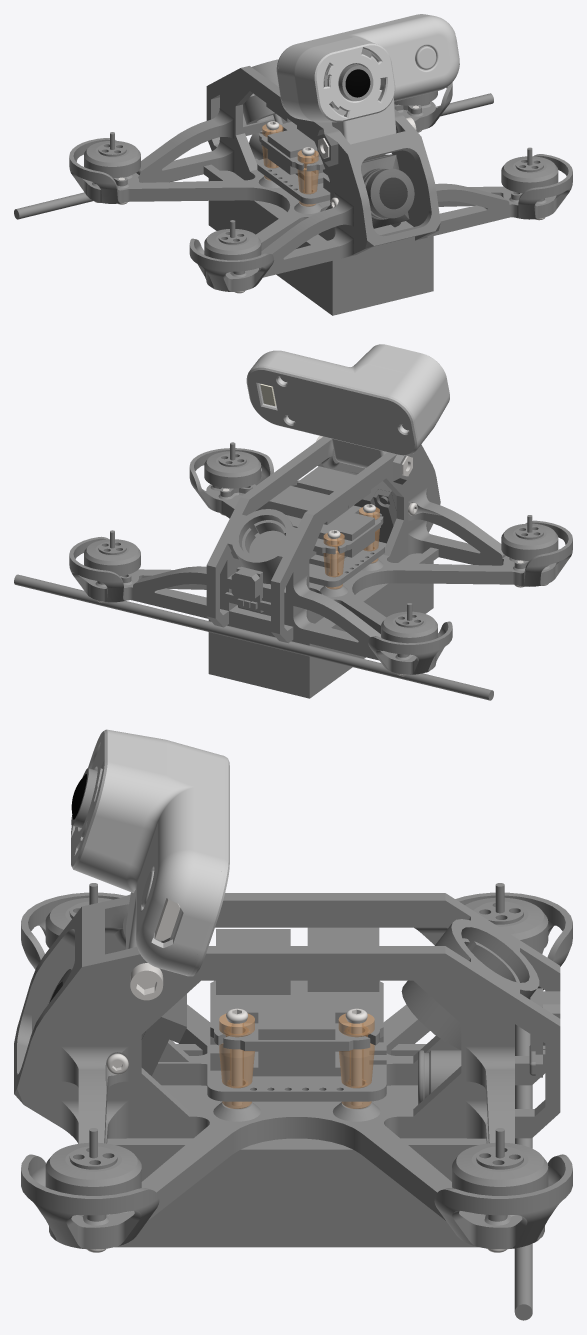
The model's file is my_drone.glb.
3 views of the same model, one above another, from view 1: azimuth 30°, elevation 25°; view 2: azimuth 150°, elevation 25°; view 3: azimuth 270°, elevation 25° (orthographic). The views are drawn at different scales.
Visible parts, largest first — view 1: drone frame-1, Runcam новый корпус-1, Батарея 4S-2, caddx ratel 2-1, JHEMCU F722 NOXE-1, RCINPower GTS V2 1202.5-6, RCINPower GTS V2 1202.5-5, RCINPower GTS V2 1202.5-1, JHEMCU EM40A-1, антенна rx-1, Runcam thumb naked-1, Проставки-1 (+1 smaller); view 2: drone frame-1, Runcam новый корпус-1, Батарея 4S-2, антенна rx-1, JHEMCU F722 NOXE-1, RCINPower GTS V2 1202.5-5, RCINPower GTS V2 1202.5-1, RCINPower GTS V2 1202.5-7, RCINPower GTS V2 1202.5-6, JHEMCU EM40A-1, hglrc beeper-1, TBS Crossfire Nano Rx-1 (+4 smaller); view 3: drone frame-1, Батарея 4S-2, Runcam новый корпус-1, JHEMCU F722 NOXE-1, JHEMCU EM40A-1, RCINPower GTS V2 1202.5-7, RCINPower GTS V2 1202.5-5, RCINPower GTS V2 1202.5-6, RUSH TINY TANK-1, антенна rx-1, TBS Crossfire Nano Rx-1, Проставки-3 (+10 smaller).
Part boxes in pixels (x1,y1,x2,y2): drone frame-1: (69,59,572,291); Runcam новый корпус-1: (276,14,459,144); Батарея 4S-2: (208,158,433,315); caddx ratel 2-1: (329,154,414,228); JHEMCU F722 NOXE-1: (259,122,373,175); RCINPower GTS V2 1202.5-6: (84,132,140,186); RCINPower GTS V2 1202.5-5: (501,147,558,201); RCINPower GTS V2 1202.5-1: (204,220,261,274); JHEMCU EM40A-1: (257,158,330,204); антенна rx-1: (14,93,493,219); Runcam thumb naked-1: (324,49,373,108); Проставки-1: (297,150,318,206); drone frame-1: (69,436,572,674); Runcam новый корпус-1: (246,344,449,468); Батарея 4S-2: (208,541,433,698); антенна rx-1: (14,574,493,700); JHEMCU F722 NOXE-1: (286,505,383,558); RCINPower GTS V2 1202.5-5: (204,442,261,497); RCINPower GTS V2 1202.5-1: (501,515,558,568); RCINPower GTS V2 1202.5-7: (84,530,140,584); RCINPower GTS V2 1202.5-6: (381,603,437,657); JHEMCU EM40A-1: (309,541,384,587); hglrc beeper-1: (225,566,270,613); TBS Crossfire Nano Rx-1: (266,485,348,524); drone frame-1: (14,892,572,1249); Батарея 4S-2: (115,1085,478,1247); Runcam новый корпус-1: (71,729,229,976); JHEMCU F722 NOXE-1: (210,980,383,1068); JHEMCU EM40A-1: (207,1027,386,1101); RCINPower GTS V2 1202.5-7: (452,1128,548,1221); RCINPower GTS V2 1202.5-5: (45,1128,141,1221); RCINPower GTS V2 1202.5-6: (465,883,548,952); RUSH TINY TANK-1: (216,929,290,994); антенна rx-1: (514,1024,532,1320); TBS Crossfire Nano Rx-1: (307,927,379,991); Проставки-3: (338,1013,374,1108).
Bounding box in the file's own units: 0.155 × 0.0804 × 0.0935.
